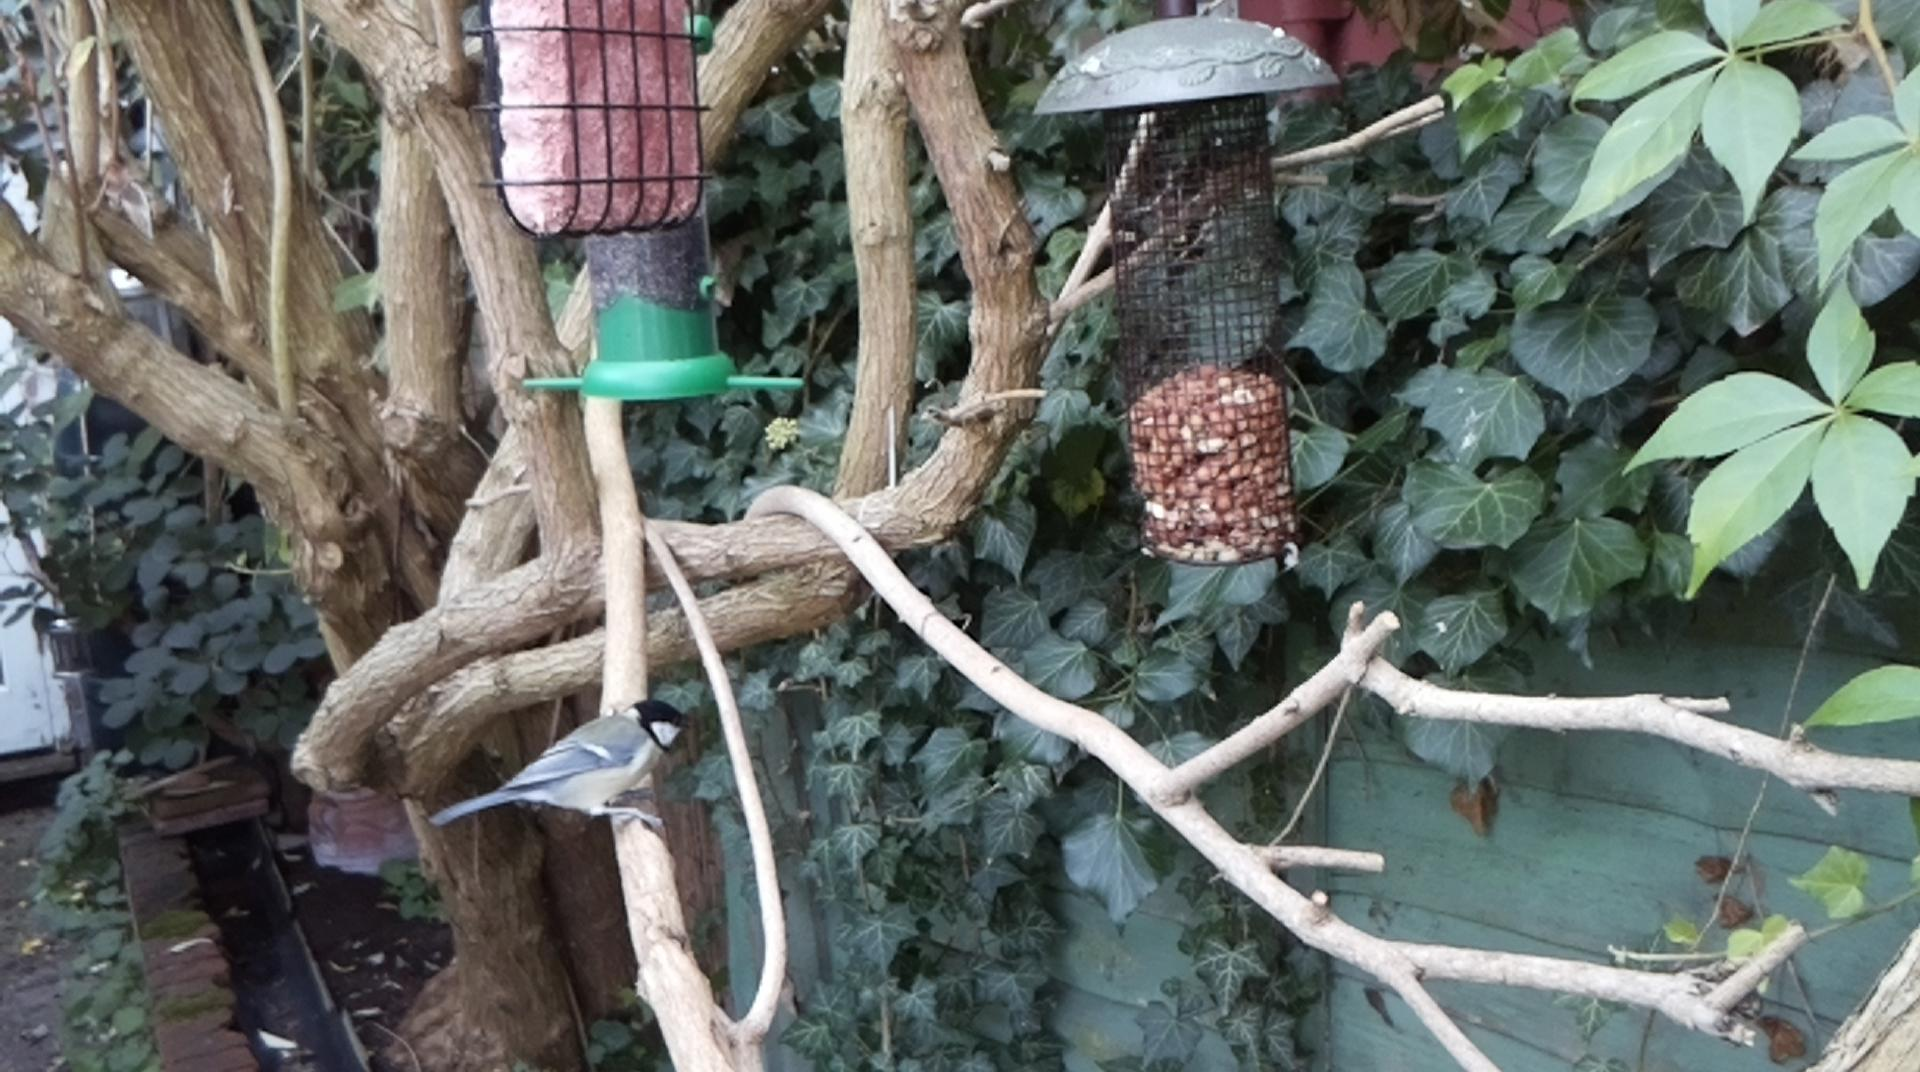great tit: (427, 700, 694, 833)
